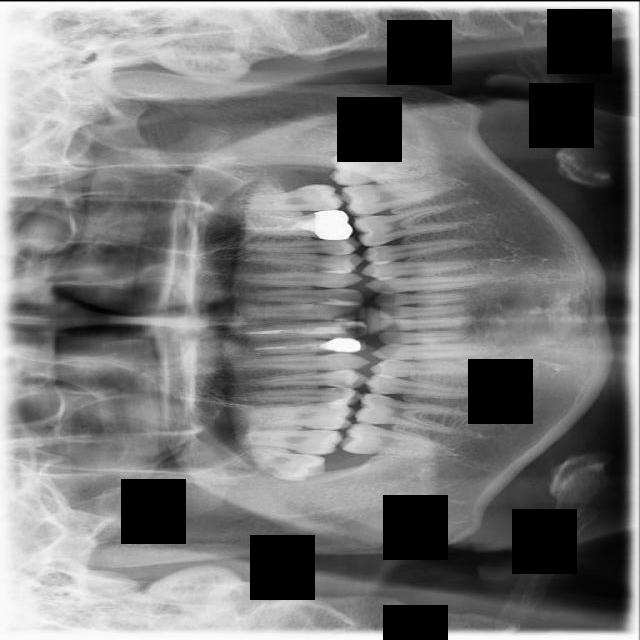3M ESPE Implant: (228, 441, 329, 485)
52: (308, 205, 356, 243), (319, 317, 369, 338), (320, 334, 368, 354)
73: (236, 210, 316, 236), (241, 320, 322, 341), (253, 337, 323, 354), (550, 22, 584, 28)
BioHorizons Implant: (236, 181, 346, 217)
Biomet 3i Implant: (328, 144, 424, 188)
Blue Sky Bio Implant: (338, 176, 445, 218)
Caries: (236, 429, 345, 455)
Implant: (341, 422, 447, 457)
